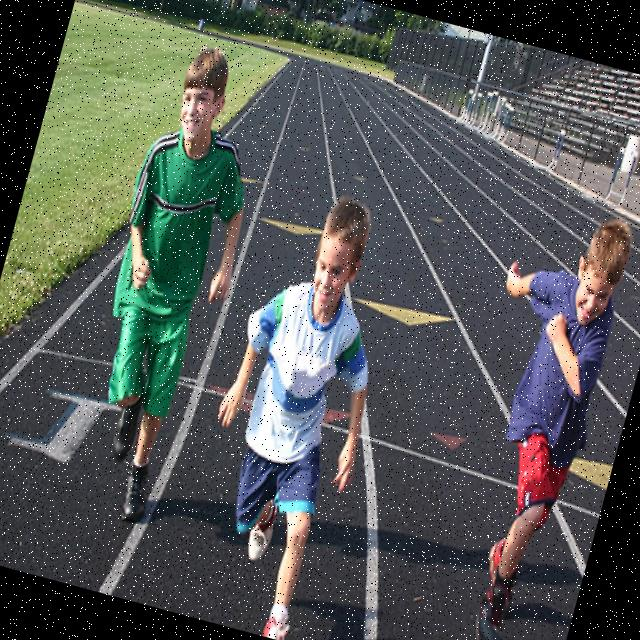Person: (164, 176, 422, 640), (49, 39, 288, 532), (410, 195, 640, 640)
